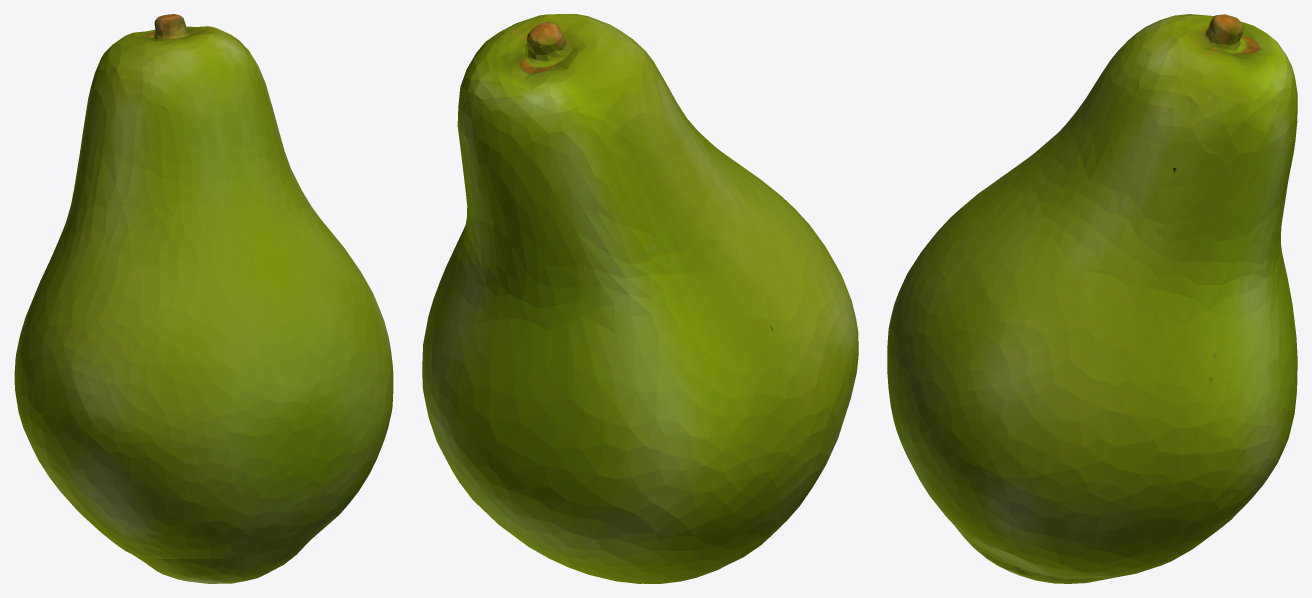
3 renders of one model, left to right at view 1: azimuth 30°, elevation 25°; view 2: azimuth 150°, elevation 25°; view 3: azimuth 270°, elevation 25°, orthographic. The views are drawn at different scales.
Visible parts, largest first — view 1: textured.029-Mesh; view 2: textured.029-Mesh; view 3: textured.029-Mesh.
Part boxes in pixels (x1=…): textured.029-Mesh: x1=14, y1=14, x2=393, y2=583; textured.029-Mesh: x1=422, y1=14, x2=858, y2=583; textured.029-Mesh: x1=887, y1=14, x2=1297, y2=583.
Bounding box in the file's own units: 0.0665 × 0.1005 × 0.0656.
1 material, 1 textured.
